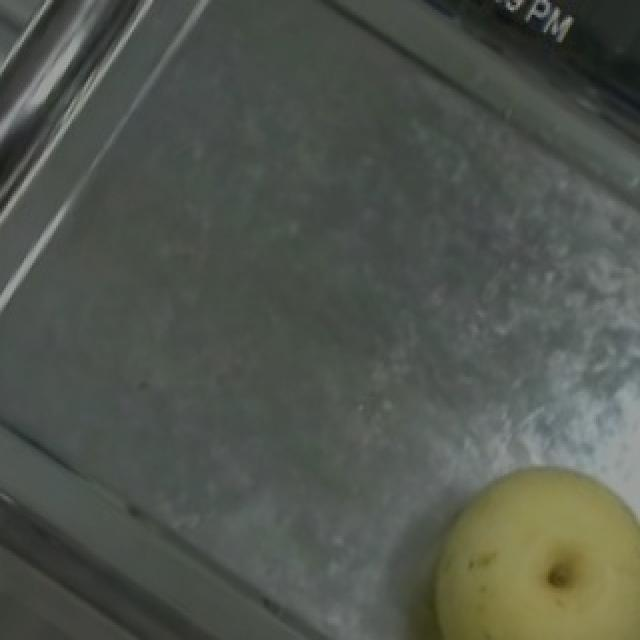Fruit: (392, 439, 640, 638)
